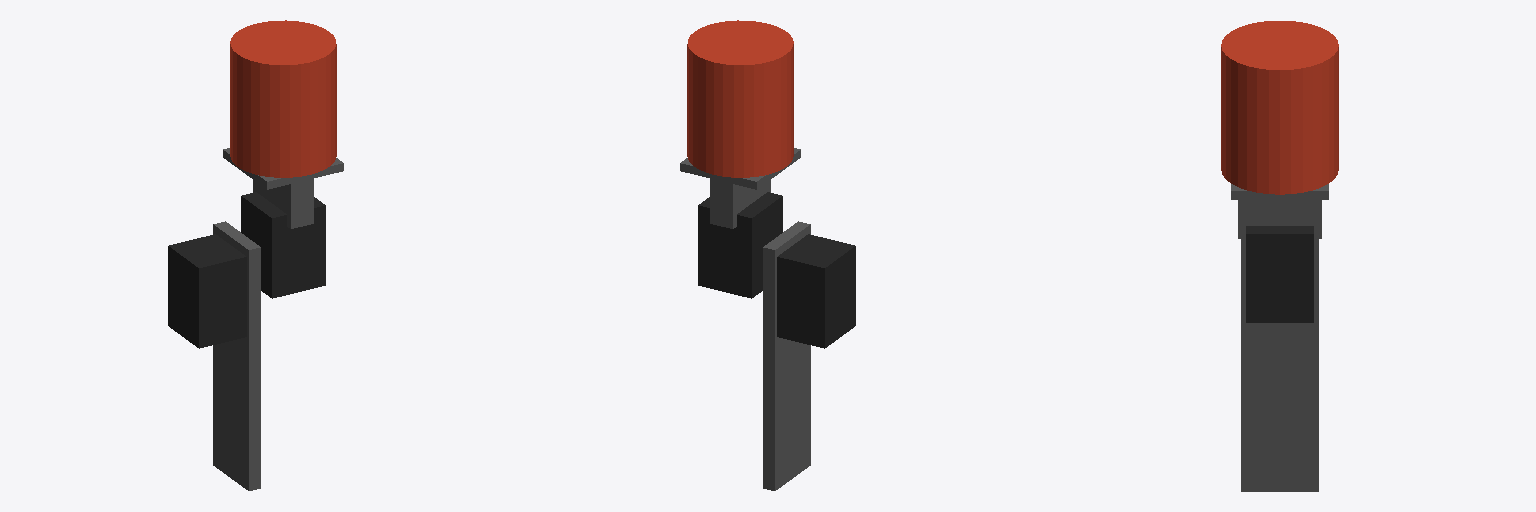
robot.urdf — tedusar_laser_alignment:
<?xml version="1.0"?>
<robot name="tedusar_laser_alignment">
    
    <link name="la_base_link" >
        <visual>
            <geometry>
                <box size="0.008 0.04 0.15"/>
            </geometry>
            <material name="light_gray">
                <color rgba="0.4 0.4 0.4 1.0"/>
            </material>
            <origin rpy="0 0 0" xyz="0 0 0.08"/>
        </visual>
        <collision>
            <geometry>
                <box size="0.008 0.04 0.15"/>
            </geometry>
            <material name="light_gray">
                <color rgba="0.4 0.4 0.4 1.0"/>
            </material>
            <origin rpy="0 0 0" xyz="0 0 0.08"/>
        </collision>
    </link>
    
    <link name="la_servo1" >
        <visual>
            <geometry>
                <box size="0.035 0.035 0.05"/>
            </geometry>
            <material name="gray">
                <color rgba="0.2 0.2 0.2 1.0"/>
            </material>
            <origin rpy="0 0 0" xyz="-0.0175 0 -0.01"/>
        </visual>
        <collision>
            <geometry>
                <box size="0.035 0.035 0.05"/>
            </geometry>
            <material name="gray">
                <color rgba="0.2 0.2 0.2 1.0"/>
            </material>
            <origin rpy="0 0 0" xyz="-0.0175 0 -0.01"/>
            
        </collision>
    </link>
    
    <link name="la_servo1_roll" />
    <link name="la_servo2" >
        <visual>
            <geometry>
                <box size="0.035 0.035 0.05"/>
            </geometry>
            <material name="gray"/>
            <origin rpy="0 0 0" xyz="0 0 -0.02"/>
        </visual>
        <collision>
            <geometry>
                <box size="0.035 0.035 0.05"/>
            </geometry>
            <material name="gray"/>
            <origin rpy="0 0 0" xyz="0 0 -0.02"/>
        </collision>
    </link>
    
    <link name="la_servo2_pitch" >
        <visual>
            <geometry>
                <box size="0.043 0.015 0.045"/>
            </geometry>
            <material name="light_gray"/>
            <origin rpy="0 0 0" xyz="0 0 0.02"/>
        </visual>
        <collision>
            <geometry>
                <box size="0.043 0.015 0.045"/>
            </geometry>
            <material name="light_gray"/>
            <origin rpy="0 0 0" xyz="0 0 0.02"/>
        </collision>
    </link>
    
    <link name="la_platform" >
        <visual>
            <geometry>
                <box size="0.050 0.050 0.005"/>
            </geometry>
            <material name="light_gray"/>
            <origin rpy="0 0 0" xyz="0 0 0.01"/>
        </visual>
        <collision>
            <geometry>
                <box size="0.050 0.050 0.005"/>
            </geometry>
            <material name="light_gray"/>
            <origin rpy="0 0 0" xyz="0 0 0.01"/>
        </collision>
    </link>
    
    <link name="la_laser" >
        <visual>
            <geometry>
                <cylinder length="0.07" radius="0.03"/>
            </geometry>
            <material name="red">
                <color rgba="0.8 0.3 0.2 1.0"/>
            </material>
            <origin rpy="0 0 0" xyz="0 0 0.018"/>
        </visual>
        <collision>
            <geometry>
                <cylinder length="0.07" radius="0.03"/>
            </geometry>
            <material name="red">
                <color rgba="0.8 0.3 0.2 1.0"/>
            </material>
            <origin rpy="0 0 0" xyz="0 0 0.018"/>
        </collision>
    </link>
    
    <joint name="la_base_to_servo1" type="fixed">
        <parent link="la_base_link"/>
        <child link="la_servo1"/>
        <origin xyz="0 0 0.135" rpy="0 0 0"/>
    </joint>
    
    <joint name="la_roll_joint" type="continuous">
        <parent link="la_servo1"/>
        <child link="la_servo1_roll"/>
        <origin xyz="0 0 0" rpy="0 0 0"/>
    </joint>
    
    <joint name="la_servo1_roll_to_servo2" type="fixed">
        <parent link="la_servo1_roll"/>
        <child link="la_servo2"/>
        <origin xyz="0.03 0 0.03" rpy="0 0 -1.570796"/>
    </joint>
    
    <joint name="la_pitch_joint" type="continuous">
        <parent link="la_servo2"/>
        <child link="la_servo2_pitch"/>
        <origin xyz="0 0 0" rpy="0 0 0"/>
    </joint>
    
    <joint name="la_servo2_pitch_to_platform" type="fixed">
        <parent link="la_servo2_pitch"/>
        <child link="la_platform"/>
        <origin xyz="0 0 0.02" rpy="0 0 1.570796"/>
    </joint>
    
    <joint name="la_platform_to_laser" type="fixed">
        <parent link="la_platform"/>
        <child link="la_laser"/>
        <origin xyz="0 0 0.03" rpy="0 0 0"/>
    </joint>
    
</robot>

--- Facts derived from the render (not from the file) ---
Views: 3 orthographic renders of the robot side by side, from view 1: azimuth 30°, elevation 25°; view 2: azimuth 150°, elevation 25°; view 3: azimuth 270°, elevation 25°.
Model tedusar_laser_alignment with 7 links and 6 joints (2 continuous, 4 fixed), rooted at la_base_link, posed all joints at 0.
Visible links, largest first — view 1: la_laser, la_base_link, la_servo1, la_servo2, la_servo2_pitch, la_platform; view 2: la_laser, la_base_link, la_servo1, la_servo2, la_servo2_pitch, la_platform; view 3: la_laser, la_base_link, la_servo2, la_servo2_pitch, la_platform.
Link boxes in pixels (bbox=[...]): la_laser: bbox=[230, 20, 336, 177]; la_base_link: bbox=[213, 221, 260, 490]; la_servo1: bbox=[168, 234, 246, 348]; la_servo2: bbox=[241, 192, 325, 298]; la_servo2_pitch: bbox=[253, 179, 313, 228]; la_platform: bbox=[223, 148, 343, 189]; la_laser: bbox=[687, 20, 793, 177]; la_base_link: bbox=[763, 221, 810, 490]; la_servo1: bbox=[777, 234, 855, 348]; la_servo2: bbox=[698, 192, 782, 298]; la_servo2_pitch: bbox=[710, 179, 770, 228]; la_platform: bbox=[680, 148, 800, 189]; la_laser: bbox=[1221, 21, 1338, 194]; la_base_link: bbox=[1241, 239, 1318, 491]; la_servo2: bbox=[1246, 226, 1313, 322]; la_servo2_pitch: bbox=[1238, 200, 1321, 238]; la_platform: bbox=[1231, 184, 1328, 199].
Size in the robot's own frame: 0.095 by 0.06 by 0.263 metres.
Geometry: primitives only (box / cylinder / sphere), no mesh files.
